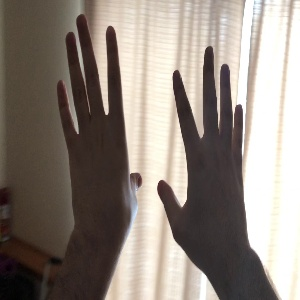hand: (158, 47, 248, 247), (56, 15, 143, 220)
